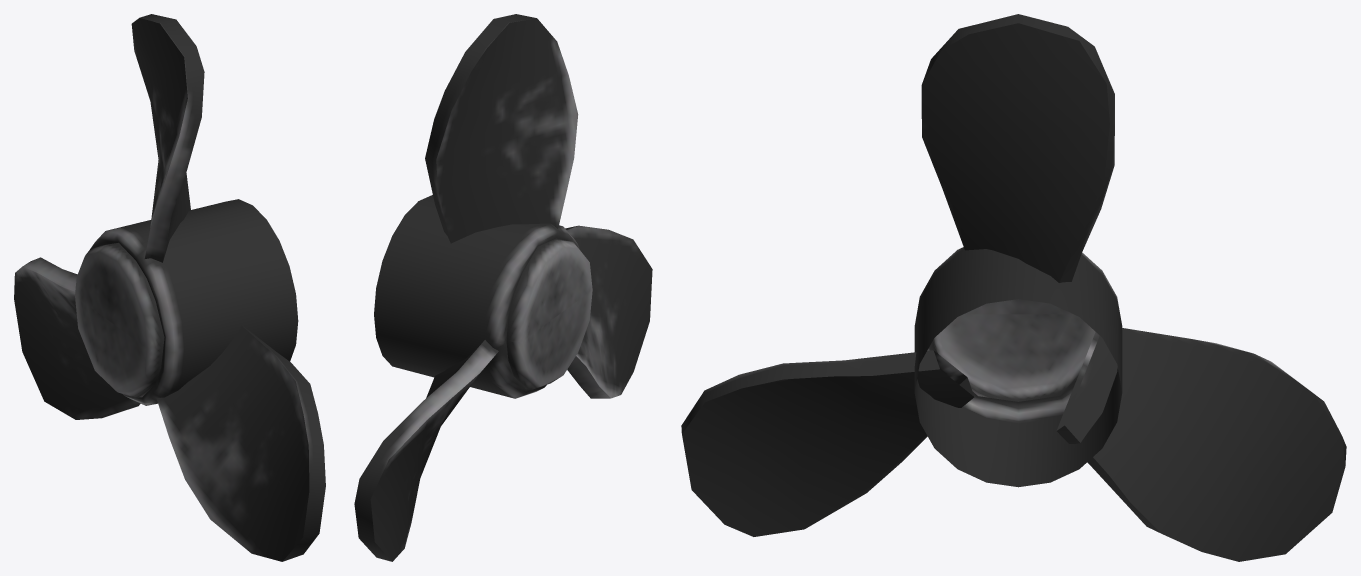
The model's file is SM_air_condition_vent_01.fbx.
3 renders of one model, left to right at view 1: azimuth 30°, elevation 25°; view 2: azimuth 150°, elevation 25°; view 3: azimuth 270°, elevation 25°, orthographic. The views are drawn at different scales.
Visible parts, largest first — view 1: SM_air_condition_vent_01_LOD0; view 2: SM_air_condition_vent_01_LOD0; view 3: SM_air_condition_vent_01_LOD0.
Boxes of the visible parts, box(x1,y1,x2,y2) form: SM_air_condition_vent_01_LOD0: box(14, 14, 325, 561); SM_air_condition_vent_01_LOD0: box(354, 14, 652, 561); SM_air_condition_vent_01_LOD0: box(681, 14, 1346, 561).
Bounding box in the file's own units: 11.65 × 41.5 × 36.85.
1 material, 1 textured.
